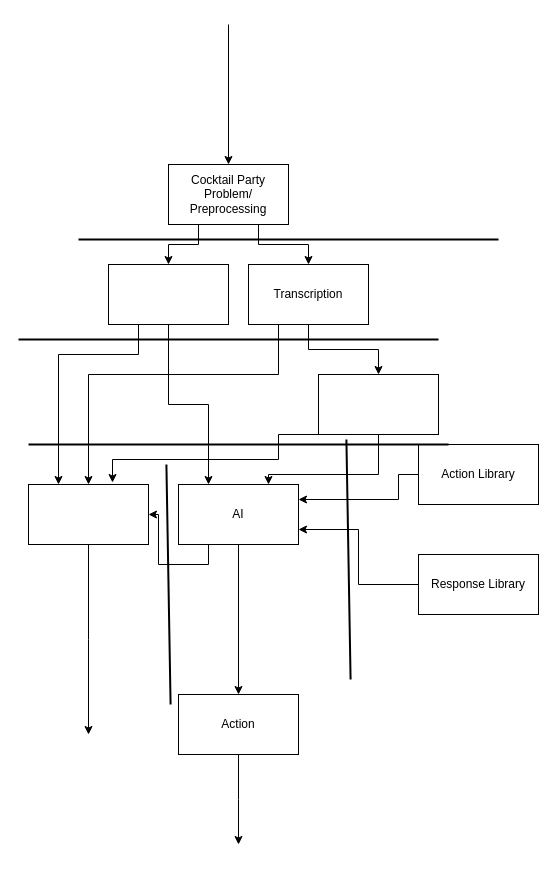
The diagram is 556 pixels wide and 870 high, and some of its shapes have lost their labels. The shapes that lost their labels are listed below. From the top down, each one's centre as x and y in pixels, then its label:
At point (168, 294): "Speech Diarization".
At point (378, 404): "Natural language Processing".
At point (88, 514): "UI".
